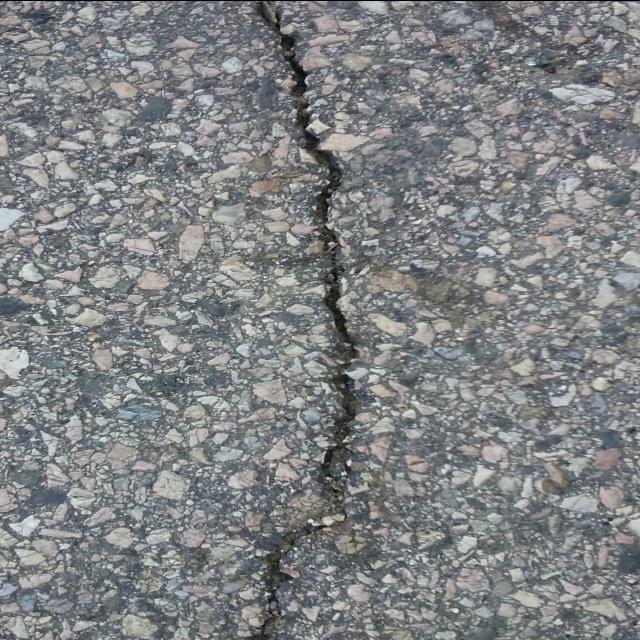Crack: (245, 0, 361, 640)
